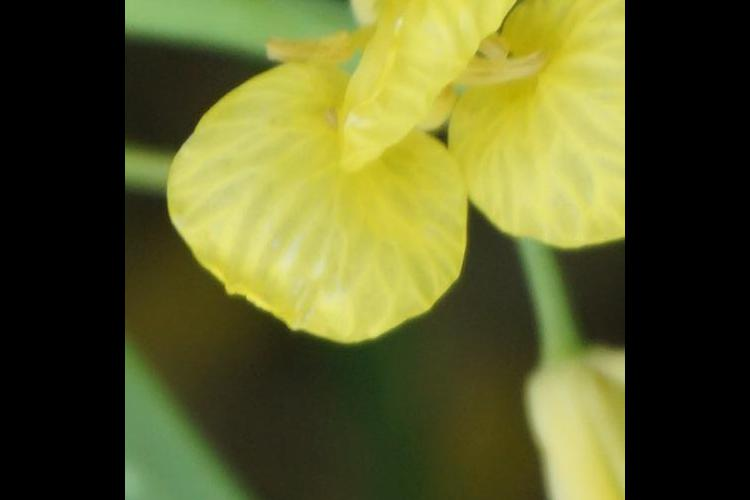yellow: (296, 1, 626, 288), (166, 37, 473, 328)
